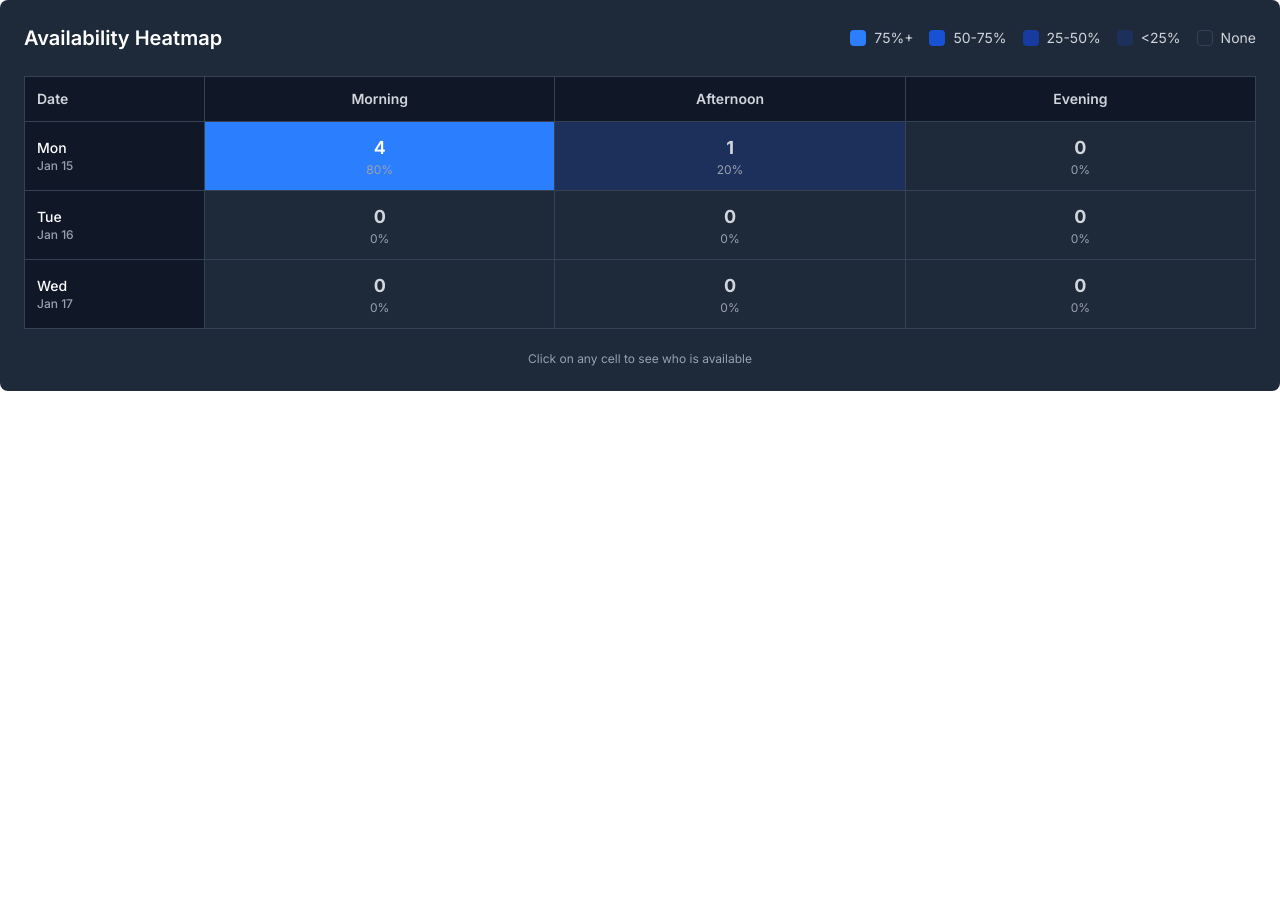
Test: AvailabilityVisualization › Heatmap Finalization (US-028) › HEATMAP-002: Insufficient Participation Disabled State › should disable finalize button when participation is below 50%
Click the cell "1 20%" at (730, 156), box [555,122,905,190]
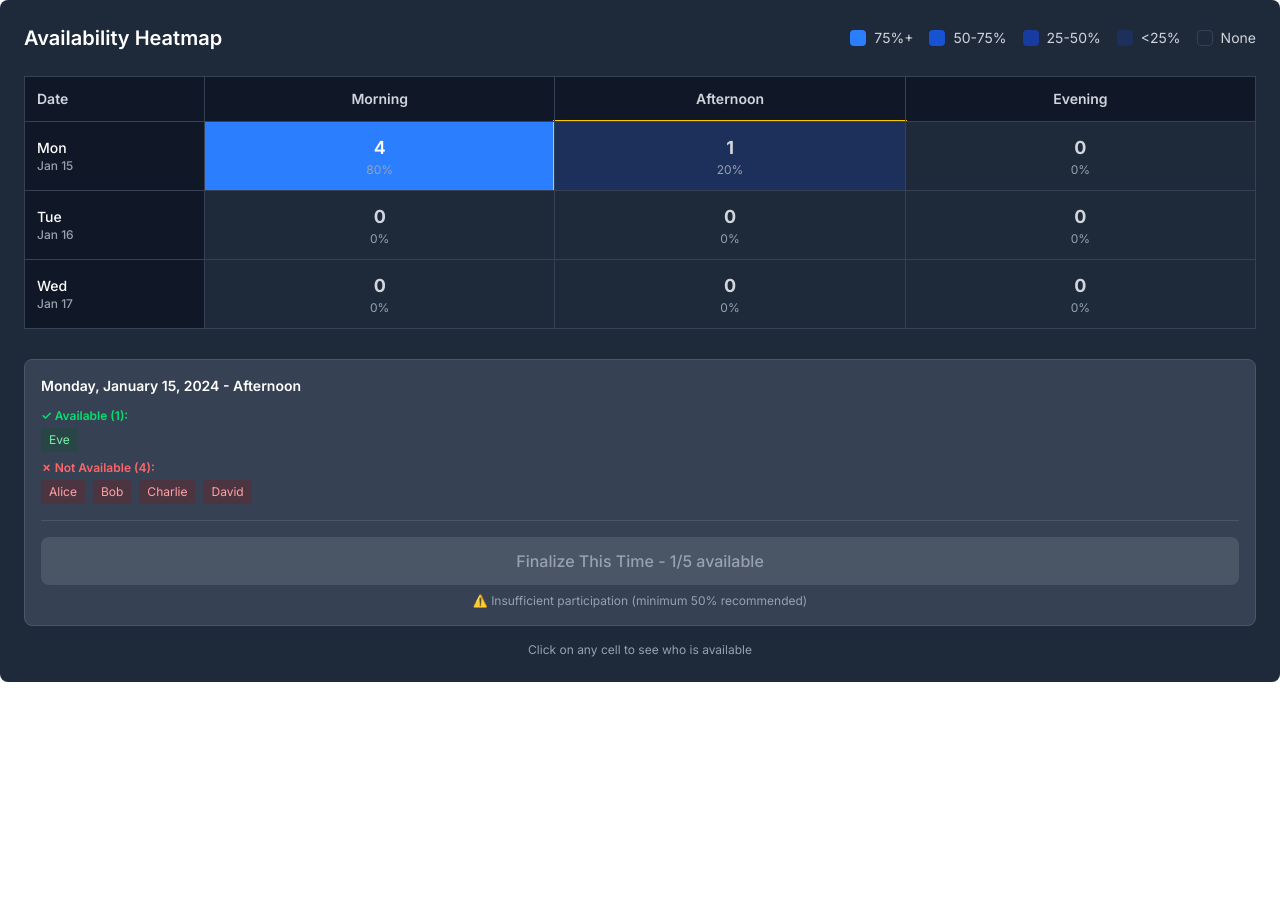
Now the button with aria-label "finalization disabled due to insufficient participation" is disabled, box [41,537,1239,585]
Now the text "⚠️ Insufficient participation (minimum 50% recommended)" is shown, box [473,593,807,608]
